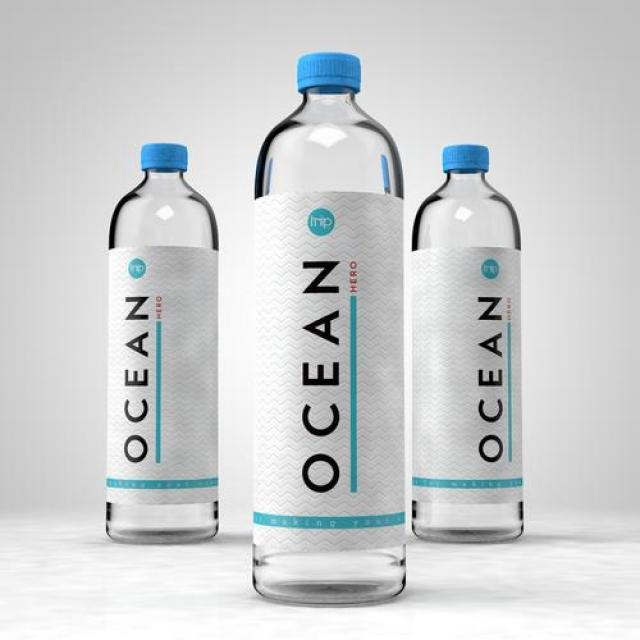plastic_bottle: (235, 48, 415, 608), (86, 133, 232, 586), (411, 132, 532, 551)
